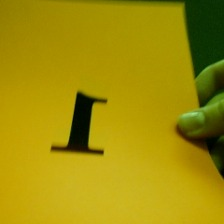orange1: (45, 85, 118, 160)
